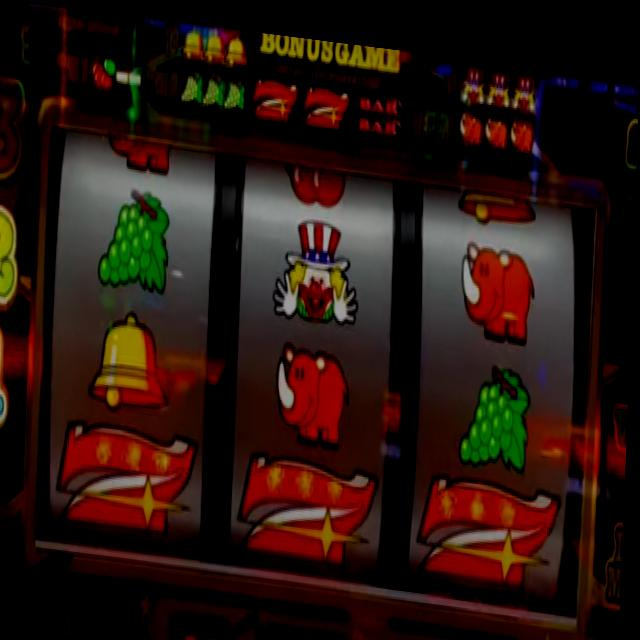bar: (353, 81, 406, 134)
bell: (91, 303, 174, 413), (457, 174, 538, 216), (227, 28, 249, 67), (203, 29, 226, 63), (182, 25, 203, 57)
cherry: (284, 150, 351, 199), (90, 48, 117, 92)
clown: (274, 204, 363, 325), (511, 54, 539, 105), (485, 51, 511, 102), (460, 49, 485, 97)
display: (38, 124, 598, 612)
elephant: (460, 224, 539, 336), (277, 332, 355, 441), (108, 128, 176, 173), (510, 101, 539, 144), (457, 95, 484, 139), (483, 99, 511, 140)
grape: (97, 177, 173, 294), (461, 342, 533, 461), (181, 58, 204, 104), (225, 66, 246, 109), (204, 66, 223, 106)
z: (420, 455, 565, 585), (240, 435, 383, 563), (59, 414, 202, 538), (249, 63, 301, 119), (303, 70, 351, 129)
